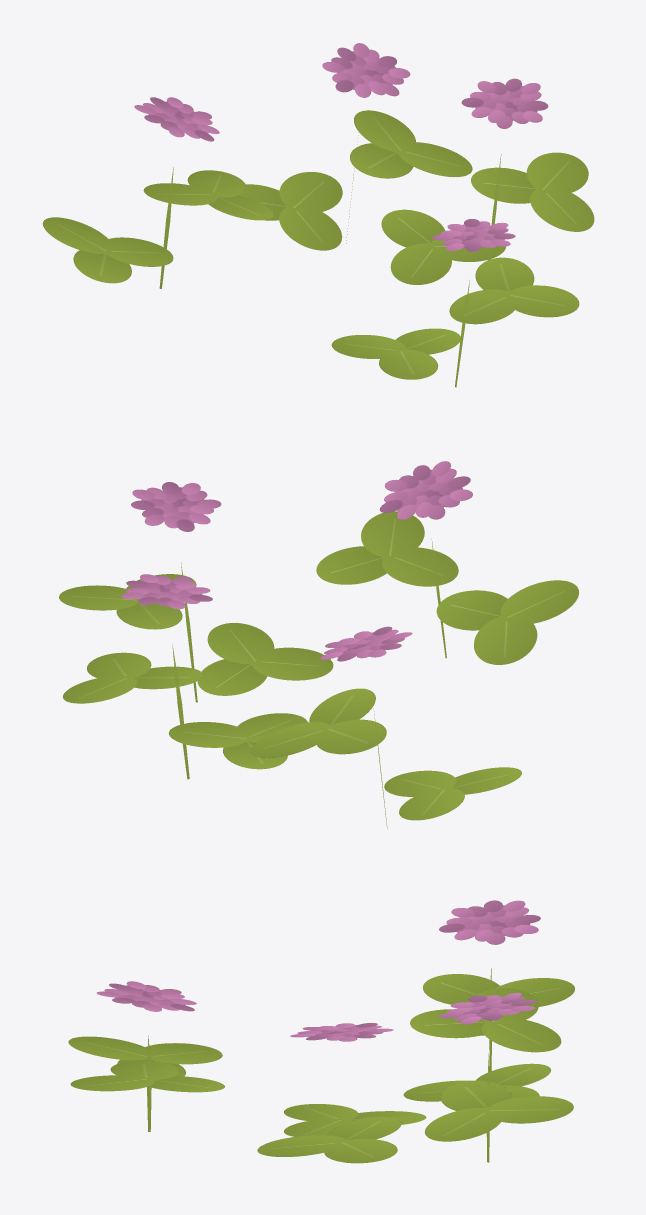
File: Furn_Flower_Clover.fbx
3 renders of one model, top to bottom at view 1: azimuth 30°, elevation 25°; view 2: azimuth 150°, elevation 25°; view 3: azimuth 270°, elevation 25°, orthographic. The views are drawn at different scales.
Visible parts, largest first — view 1: Furn_Flower_Clover; view 2: Furn_Flower_Clover; view 3: Furn_Flower_Clover.
Boxes of the visible parts, bbox=[...] form: Furn_Flower_Clover: bbox=[42, 43, 594, 387]; Furn_Flower_Clover: bbox=[59, 461, 578, 828]; Furn_Flower_Clover: bbox=[68, 900, 574, 1163].
Size of the model in its own units: 0.3 by 0.1 by 0.3.
Materials: 1 (1 with a texture image).
